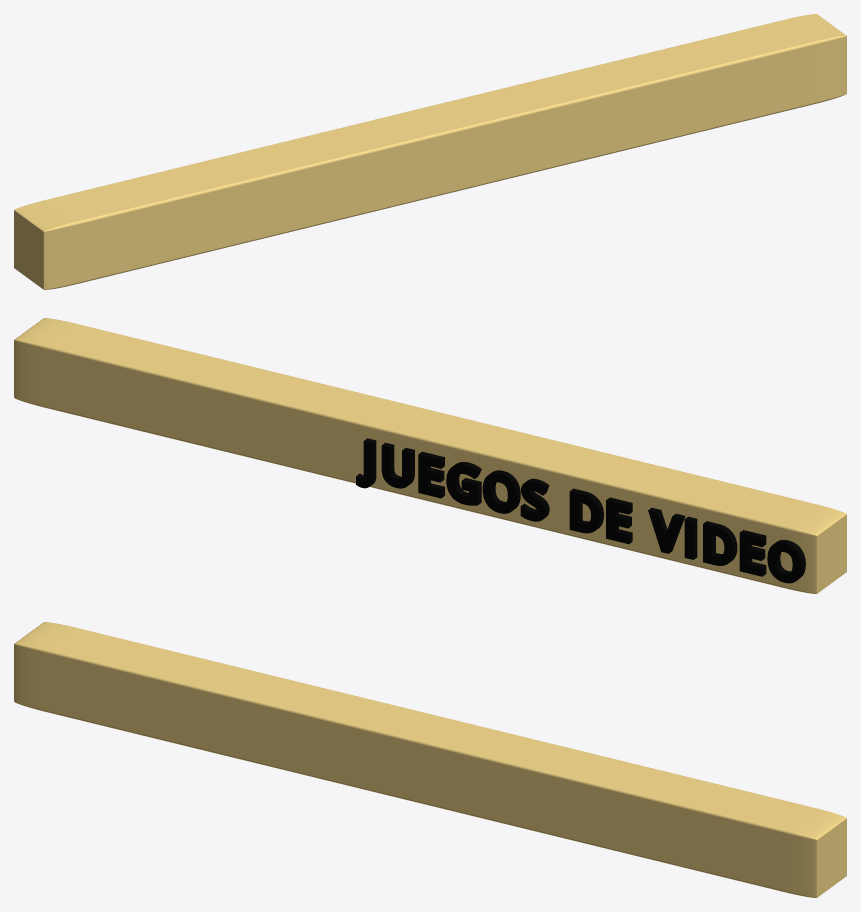
Rendered from juegosdevideo.glb.
The picture shows the model from 3 angles, top to bottom: view 1: azimuth 30°, elevation 25°; view 2: azimuth 150°, elevation 25°; view 3: azimuth 330°, elevation 25°; orthographic projection.
Parts seen in each view (by area): view 1: Box; view 2: Box, 3D Text - E (×3), 3D Text - D (×2), 3D Text - O (×2), 3D Text - G, 3D Text - U, 3D Text - S, 3D Text - V, 3D Text - J, 3D Text - I; view 3: Box.
Boxes of the visible parts, x1,y1,x2,y2 form: Box: (14, 14, 846, 289); Box: (14, 318, 846, 593); 3D Text - E (×3): (418, 451, 766, 576); 3D Text - D (×2): (569, 488, 737, 565); 3D Text - O (×2): (482, 470, 805, 583); 3D Text - G: (446, 462, 481, 505); 3D Text - U: (381, 442, 414, 488); 3D Text - S: (520, 478, 549, 521); 3D Text - V: (648, 507, 685, 553); 3D Text - J: (356, 438, 376, 488); 3D Text - I: (684, 516, 697, 559); Box: (14, 622, 846, 897).
Size of the model in its own units: 1.45 by 0.1081 by 0.1119.
